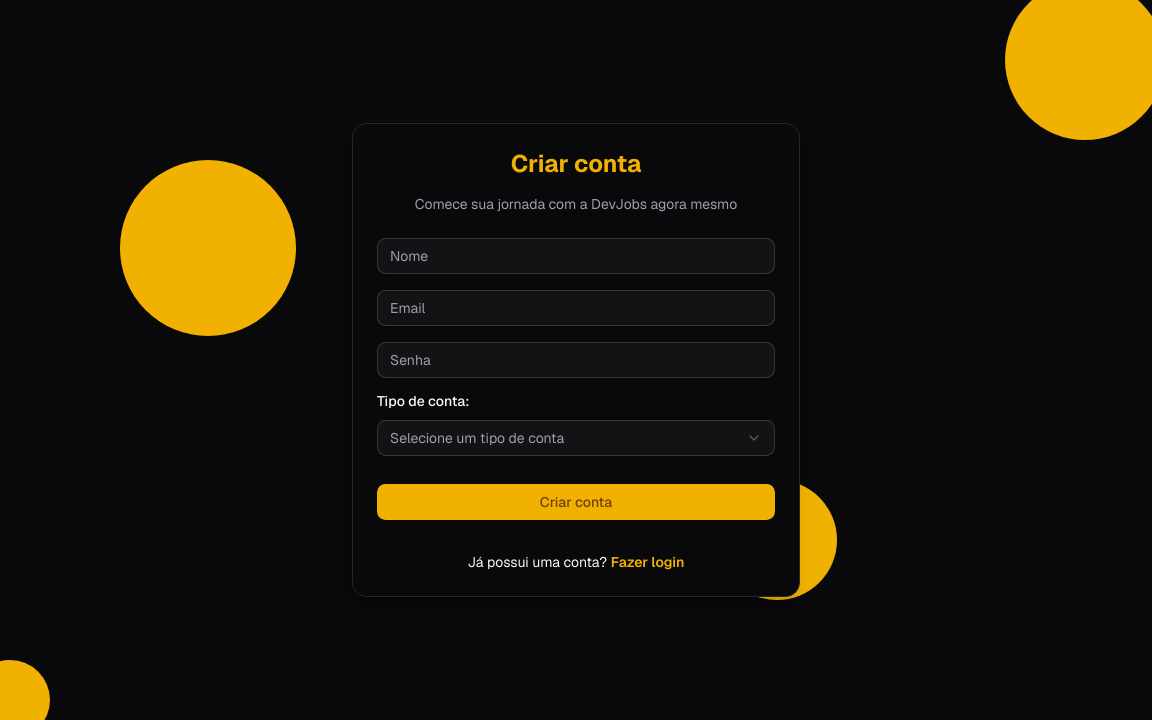
Test: Register Page › should be able to display errors when fields are empty
Step 1. Click the button "Criar conta" → click(576, 502), box top-left (377, 484), bottom-right (775, 520)
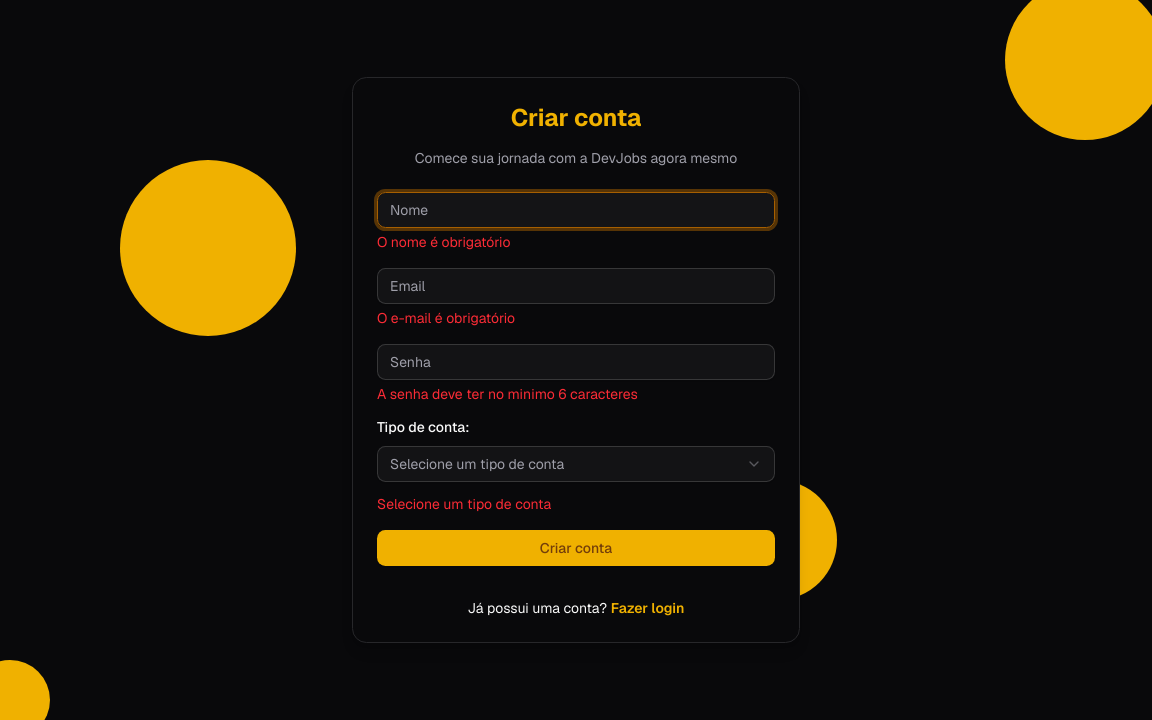
Expected: the text "O nome é obrigatório" is shown, top-left (377, 233), bottom-right (510, 251)
Expected: the text "O e-mail é obrigatório" is shown, top-left (377, 309), bottom-right (515, 327)
Expected: the text "A senha deve ter no minimo 6 caracteres" is shown, top-left (377, 385), bottom-right (638, 403)
